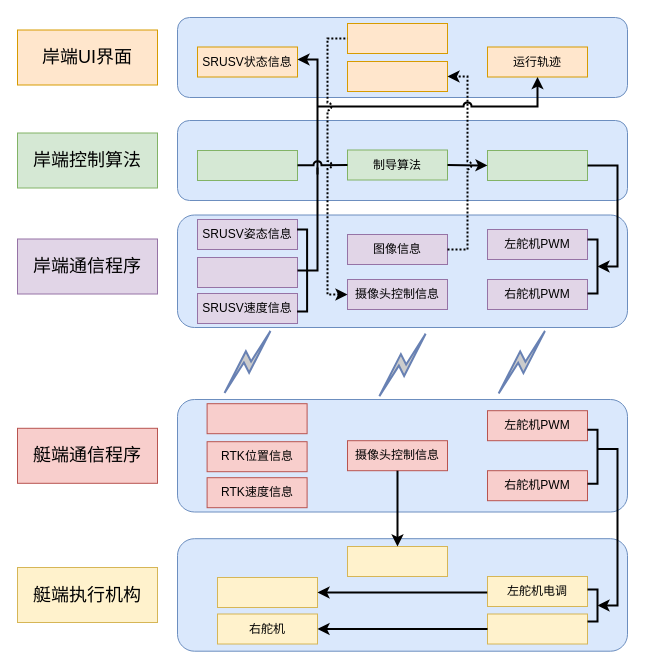
Image size: 645x669. Some labels were removed from this diagram. Here are the shapes that lost their labels. From the top down, the centre of each, then its label:
the point at 397,38: 摄像头控制按钮
the point at 397,76: 航行视频
the point at 247,165: 目标轨迹
the point at 537,165: 控制算法
the point at 247,272: SRUSV位置信息
the point at 256,418: RTK姿态信息
the point at 397,561: 摄像头舵机
the point at 267,592: 左舵机
the point at 537,628: 右舵机电调
